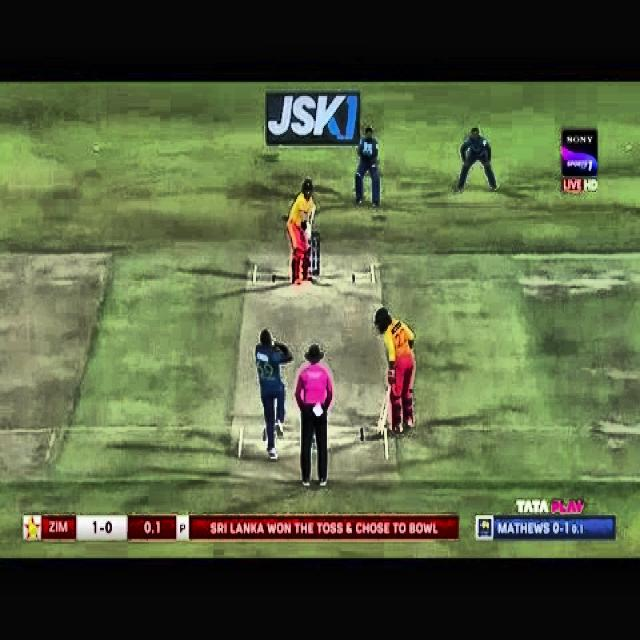Middle-stump: (313, 235, 315, 276)
Right-stump: (317, 234, 320, 276)
